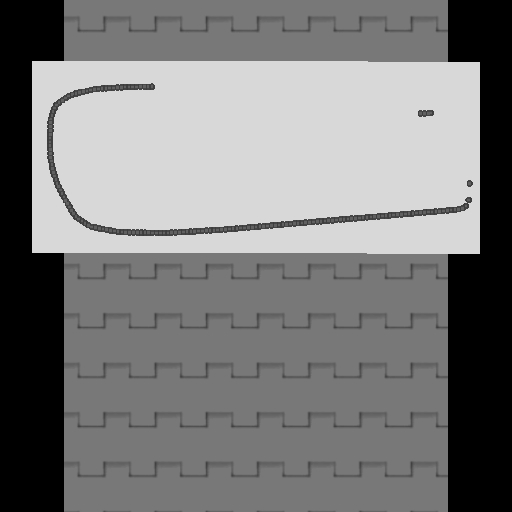Defect: (152, 77, 417, 122)
